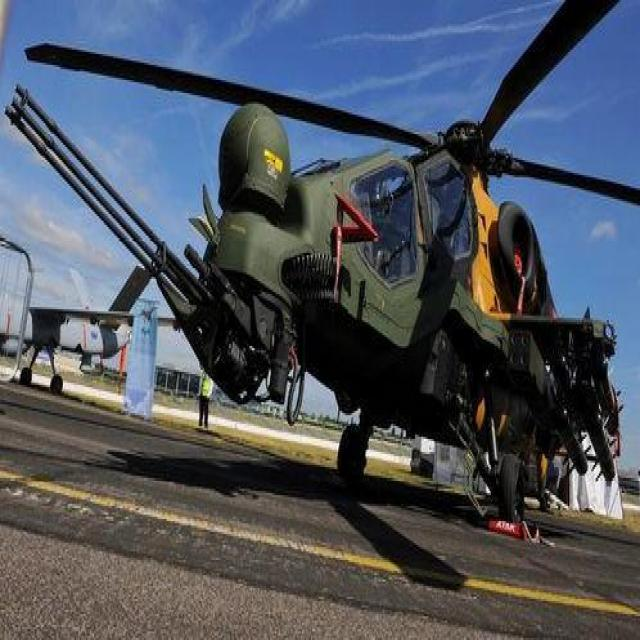MIL_HELO: (15, 15, 640, 552)
